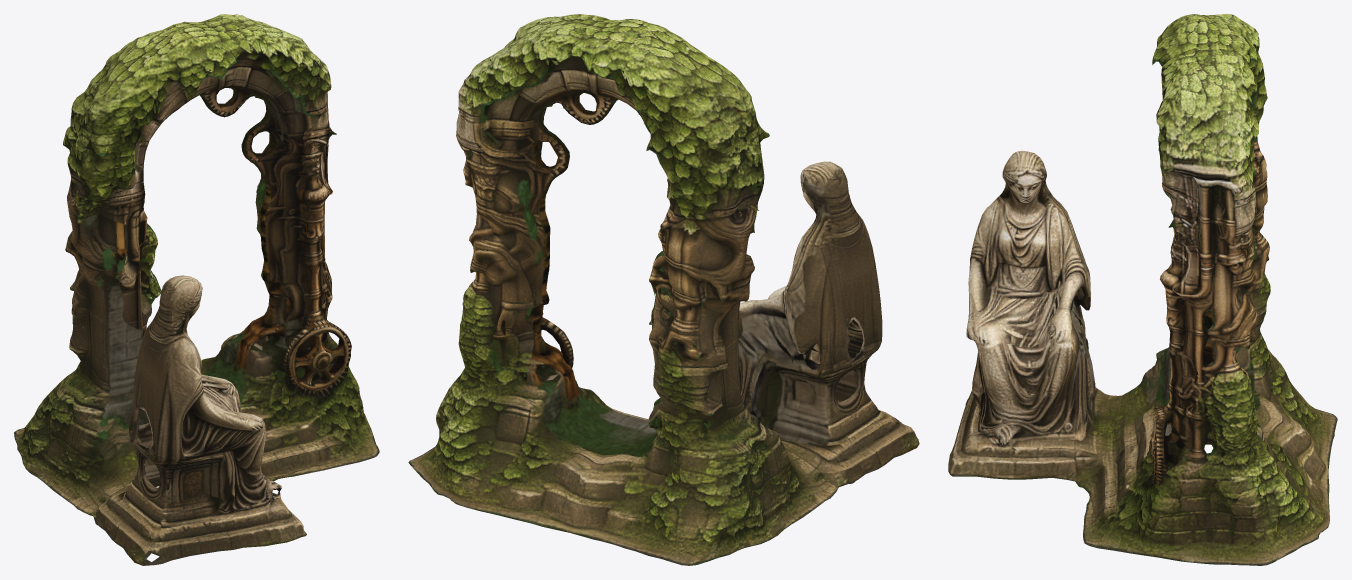
The model's file is env_temple_statue.glb.
3 renders of one model, left to right at view 1: azimuth 30°, elevation 25°; view 2: azimuth 150°, elevation 25°; view 3: azimuth 270°, elevation 25°, orthographic. The views are drawn at different scales.
Visible parts, largest first — view 1: Statue_0; view 2: Statue_0; view 3: Statue_0.
Part boxes in pixels (x1,y1,x2,y2): Statue_0: [14, 14, 379, 565]; Statue_0: [408, 14, 919, 565]; Statue_0: [948, 14, 1337, 565].
Size of the model in its own units: 1.48 by 1.8 by 1.4.
Materials: 1 (1 with a texture image).
